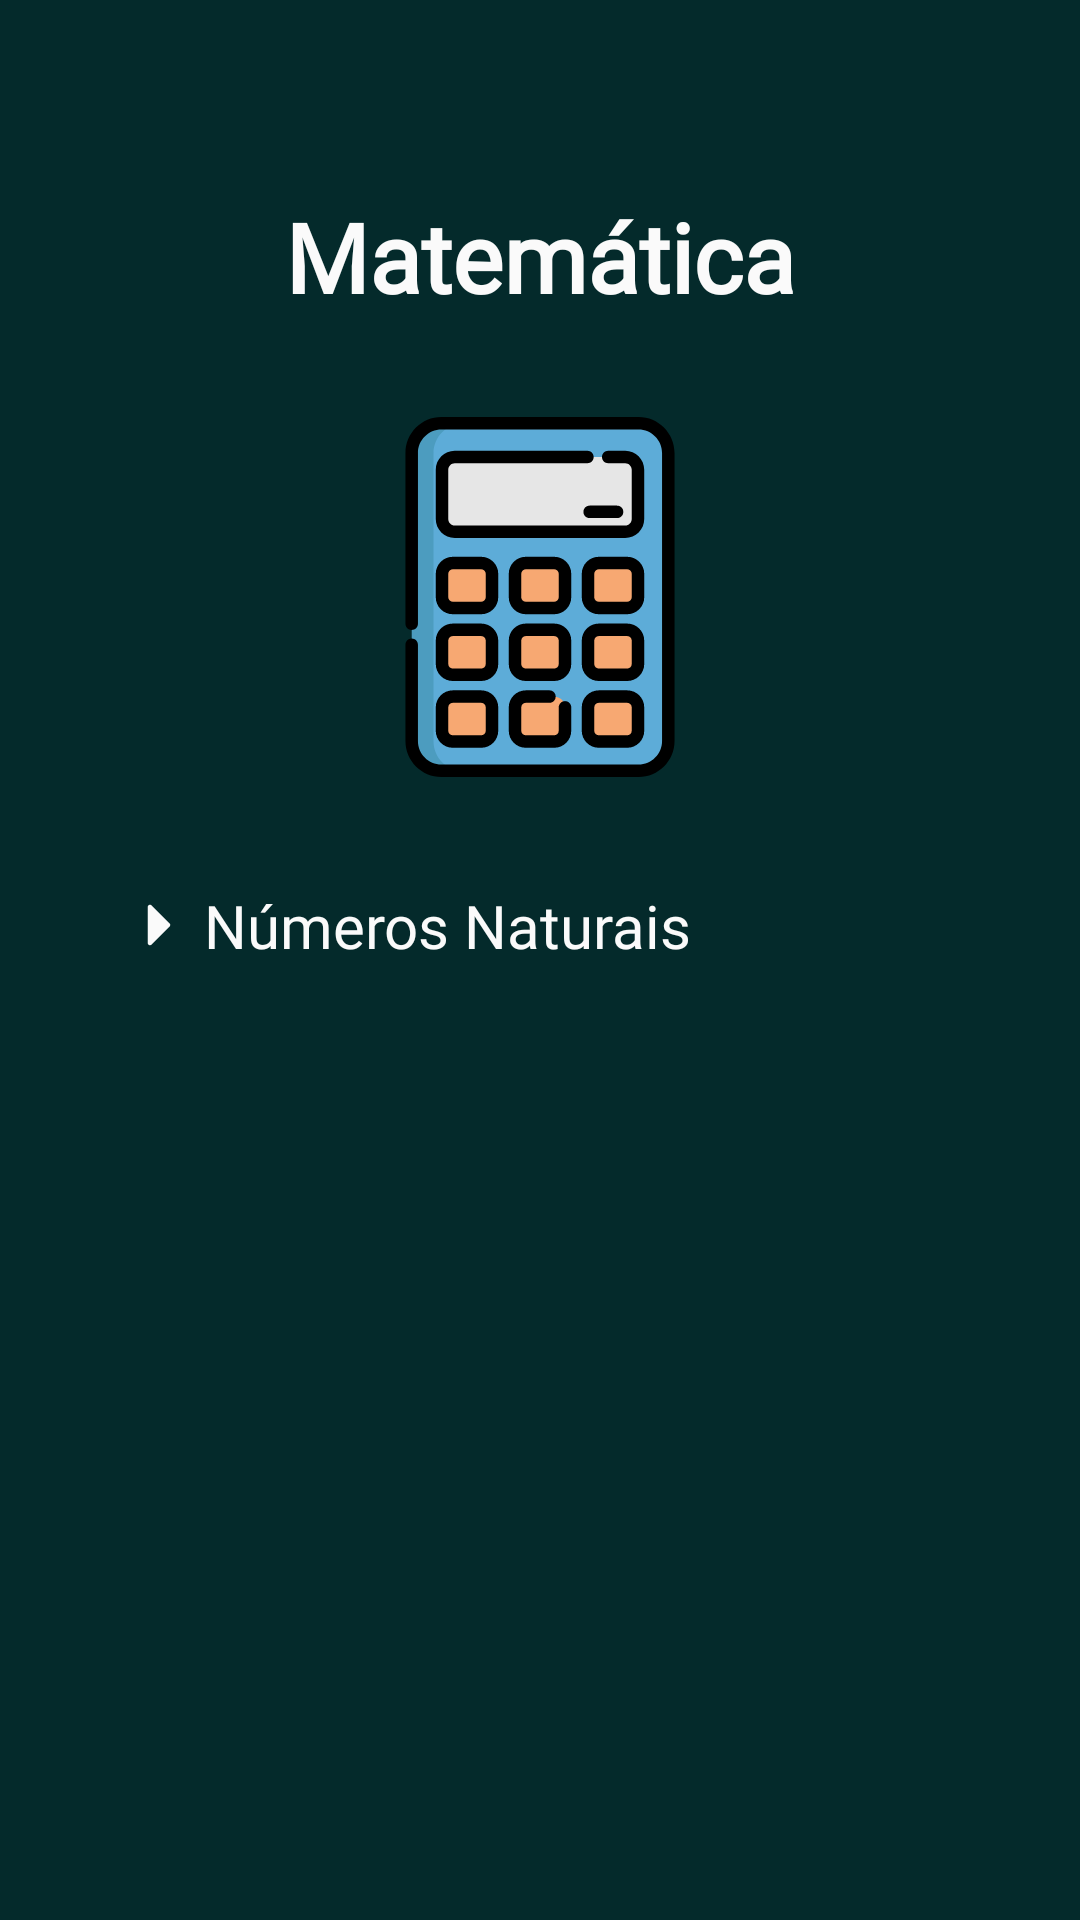

Icon bounding boxes for this 1080×1920 phone screenshot, format bbox(x1, y1, x2, y2):
arrow right: bbox(147, 904, 171, 946)
